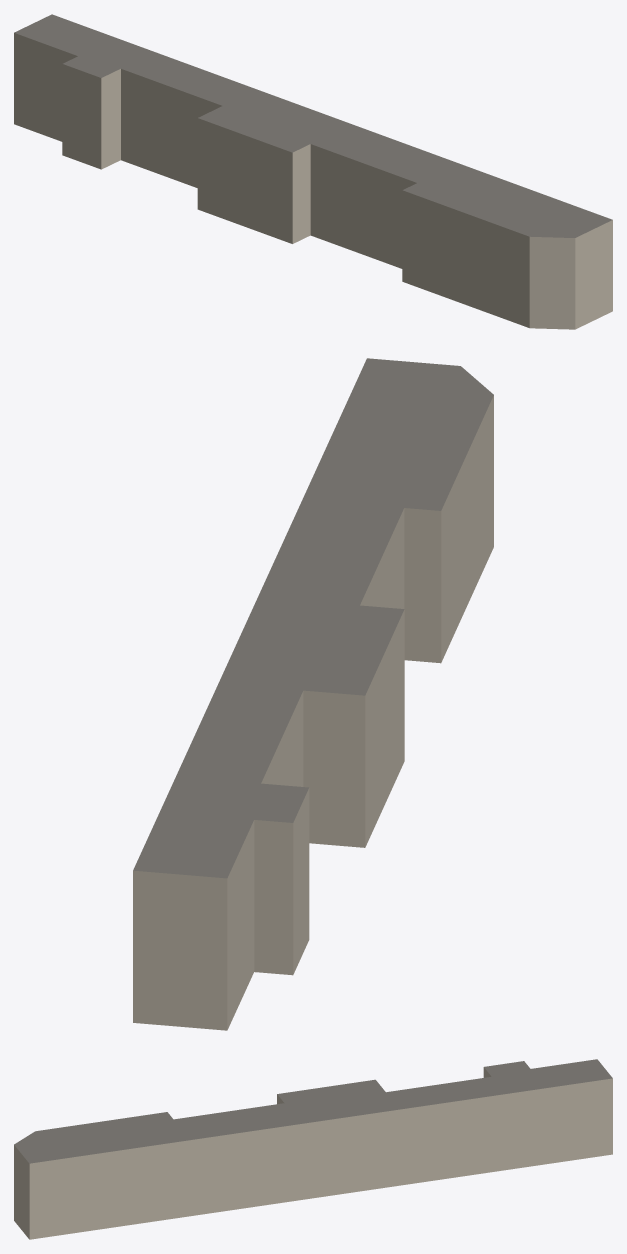
3 renders of one model, top to bottom at view 1: azimuth 30°, elevation 25°; view 2: azimuth 150°, elevation 25°; view 3: azimuth 270°, elevation 25°, orthographic. The views are drawn at different scales.
Parts seen in each view (by area): view 1: HP-w165952548; view 2: HP-w165952548; view 3: HP-w165952548.
Boxes of the visible parts, <box> form: HP-w165952548: <box>14,14,612,329</box>; HP-w165952548: <box>133,358,493,1030</box>; HP-w165952548: <box>14,1059,612,1239</box>.
Size of the model in its own units: 53.01 by 18 by 128.
